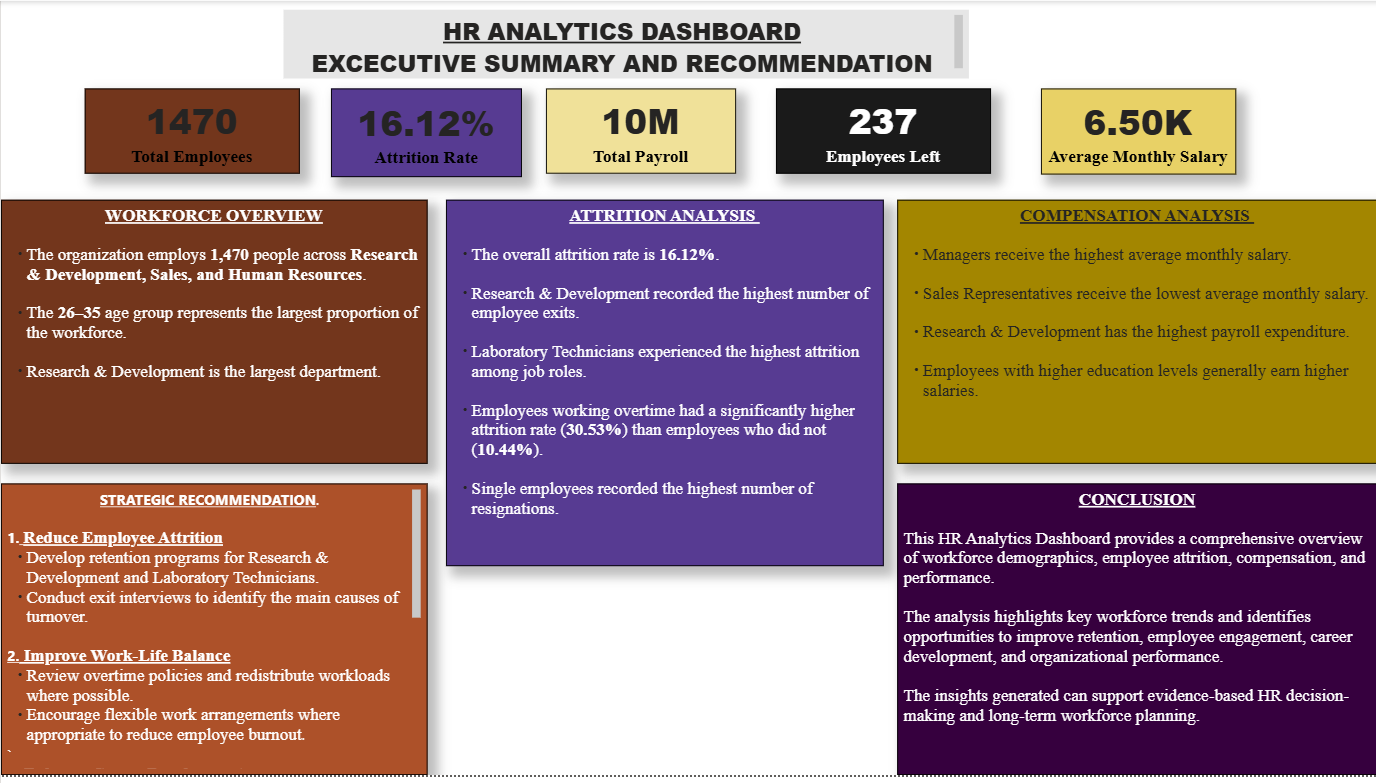

The dashboard page shown, as its layout file describes it:
{"tool":"powerbi","page":{"name":"Executive Summary & Recommendation","canvas":[1280,720],"ordinal":4},"visuals":[{"type":"card","fields":{"Values":["HR-Employee-Attrition.Employees Left"]},"box":[720.9,81.4,200,79.1],"z":0},{"type":"card","fields":{"Values":["HR-Employee-Attrition.Total Employees"]},"box":[77.9,81.4,200,79.1],"z":1000},{"type":"card","fields":{"Values":["HR-Employee-Attrition.Attrition Rate"]},"box":[307,81.4,177.9,82.6],"z":2000},{"type":"card","fields":{"Values":["HR-Employee-Attrition.Total Payroll"]},"box":[507,81.4,176.7,79.1],"z":3000},{"type":"card","fields":{"Values":["HR-Employee-Attrition.Average Monthly Salary"]},"box":[967.4,81.4,181.4,80.2],"z":4000},{"type":"textbox","box":[0,184.9,396.5,245.3],"z":5000},{"type":"textbox","box":[414,184.9,407,340.7],"z":6000},{"type":"textbox","box":[833.7,184.9,446.5,245.3],"z":7000},{"type":"textbox","box":[0,448.8,396.5,270.9],"z":8000},{"type":"textbox","box":[833.7,448.8,446.5,270.9],"z":9000},{"type":"textbox","box":[262.8,8.1,637.2,64],"z":10000}]}

Visuals, with their boxes in screenshot pixels (x1, y1, x2, y2), scaled from the page's 1280x720 canvas onto the 1376x783 screenshot:
card - HR-Employee-Attrition.Employees Left: bbox=(775, 89, 990, 175)
card - HR-Employee-Attrition.Total Employees: bbox=(84, 89, 299, 175)
card - HR-Employee-Attrition.Attrition Rate: bbox=(330, 89, 521, 178)
card - HR-Employee-Attrition.Total Payroll: bbox=(545, 89, 735, 175)
card - HR-Employee-Attrition.Average Monthly Salary: bbox=(1040, 89, 1235, 176)
textbox: bbox=(0, 201, 426, 468)
textbox: bbox=(445, 201, 883, 572)
textbox: bbox=(896, 201, 1375, 468)
textbox: bbox=(0, 488, 426, 782)
textbox: bbox=(896, 488, 1375, 782)
textbox: bbox=(283, 9, 968, 78)
